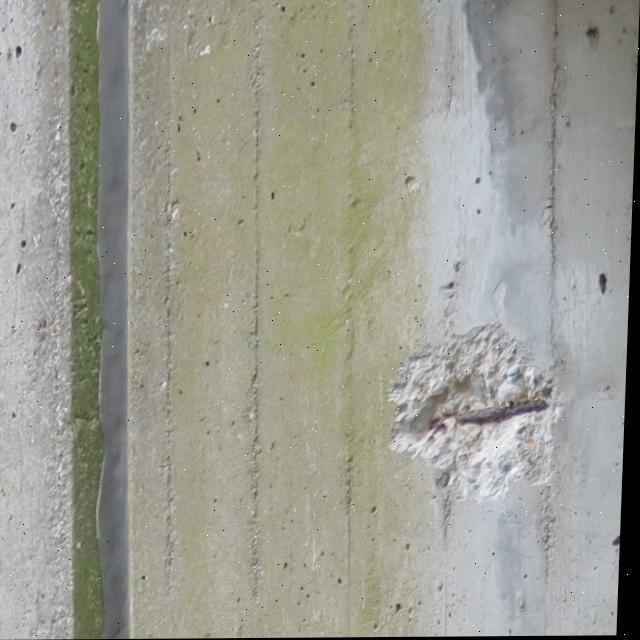D10: (394, 326, 561, 501)
